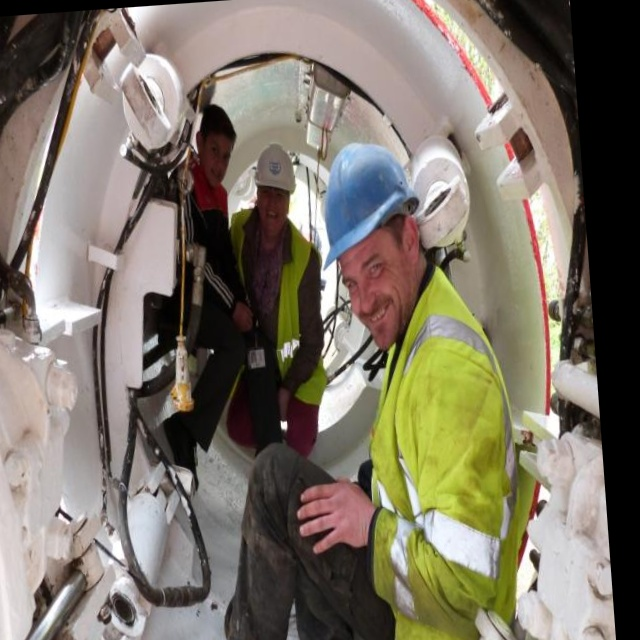Con_Casco: (316, 139, 423, 356), (252, 143, 298, 234)
Con_Chaleco: (364, 329, 532, 640)
Sin_Casco_Mascarrilla: (194, 103, 241, 189)
